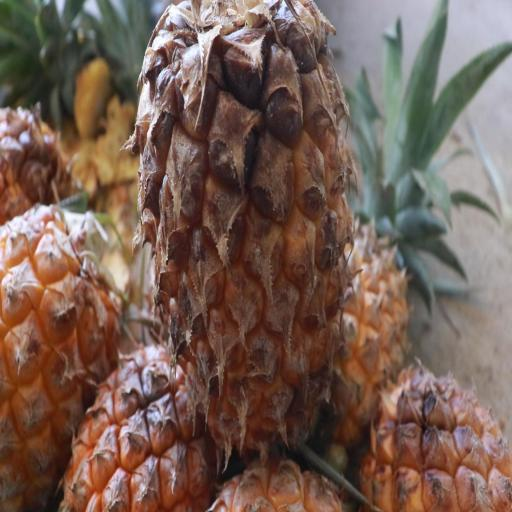Pineapple - v8 v1: (131, 0, 353, 465), (0, 194, 126, 512), (278, 192, 416, 462), (51, 337, 215, 512), (354, 368, 512, 512)
